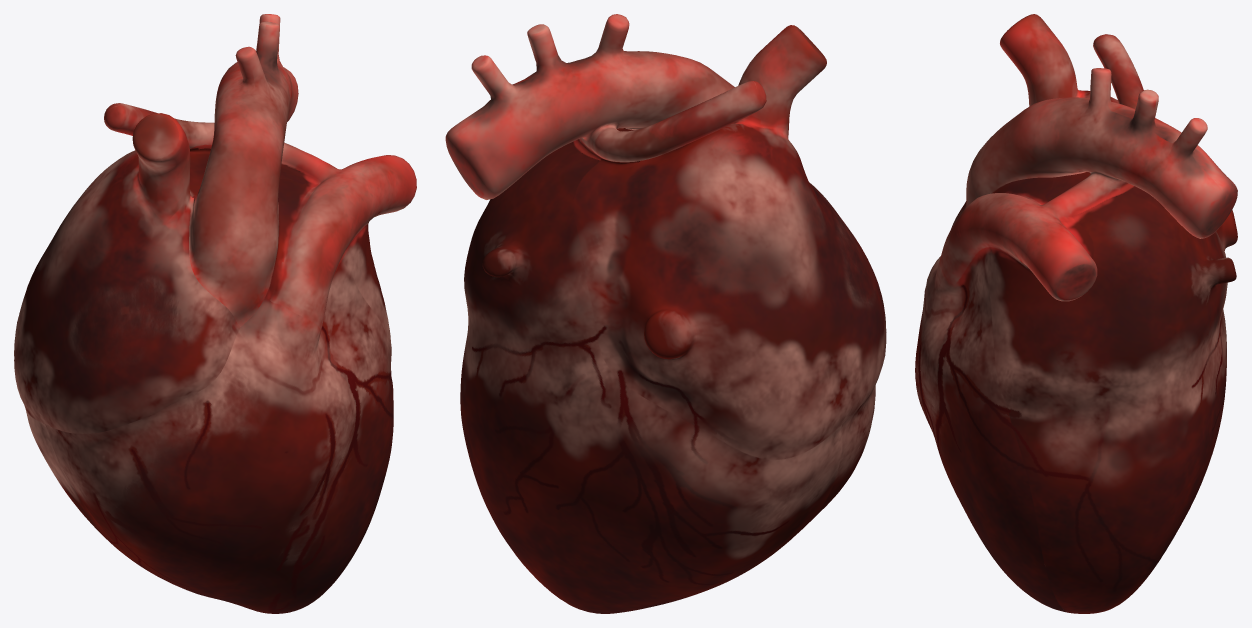
Rendered from heart.glb.
The picture shows the model from 3 angles, left to right: view 1: azimuth 30°, elevation 25°; view 2: azimuth 150°, elevation 25°; view 3: azimuth 270°, elevation 25°; orthographic projection. The views are drawn at different scales.
Parts seen in each view (by area): view 1: hart:ZBrush_defualt_group; view 2: hart:ZBrush_defualt_group; view 3: hart:ZBrush_defualt_group.
Part boxes in pixels (box(x1,y1,x2,y2)): hart:ZBrush_defualt_group: box(14, 14, 416, 613); hart:ZBrush_defualt_group: box(445, 14, 886, 613); hart:ZBrush_defualt_group: box(915, 14, 1237, 613).
Bounding box in the file's own units: 6.22 × 9.19 × 5.05.
Materials: 1 (1 with a texture image).
